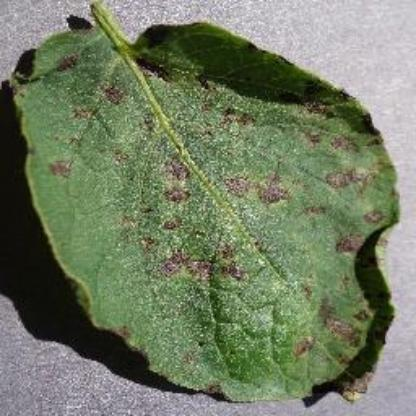Early-Blight: (9, 6, 396, 406)
